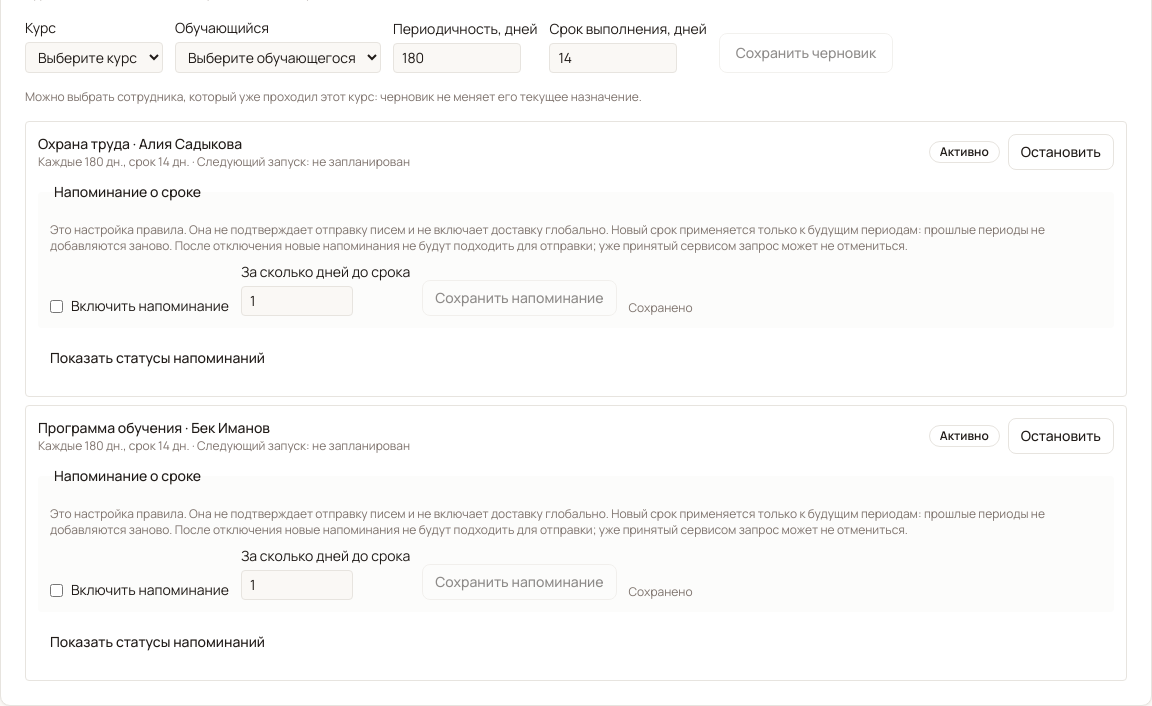
Test: recurring reminder settings › keeps concurrent rule history responses with their own cards
The width and height of the screenshot is (1152, 706).
(page scrolled)
expect the text "Программа обучения · Бек Иманов" is shown: met, box [38,418,270,437]
Click the button "Показать статусы напоминаний" below "Охрана труда" at (158, 358), box [38,340,277,376]
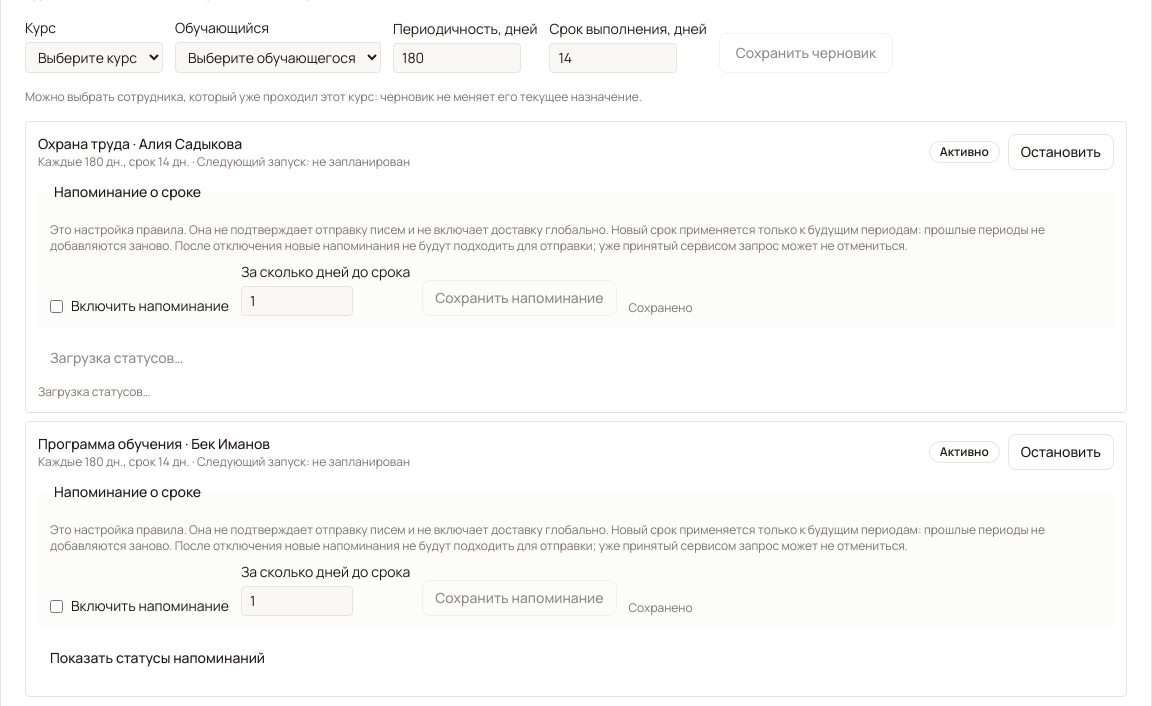
Click the button "Показать статусы напоминаний" at (158, 658), box [38,640,277,676]
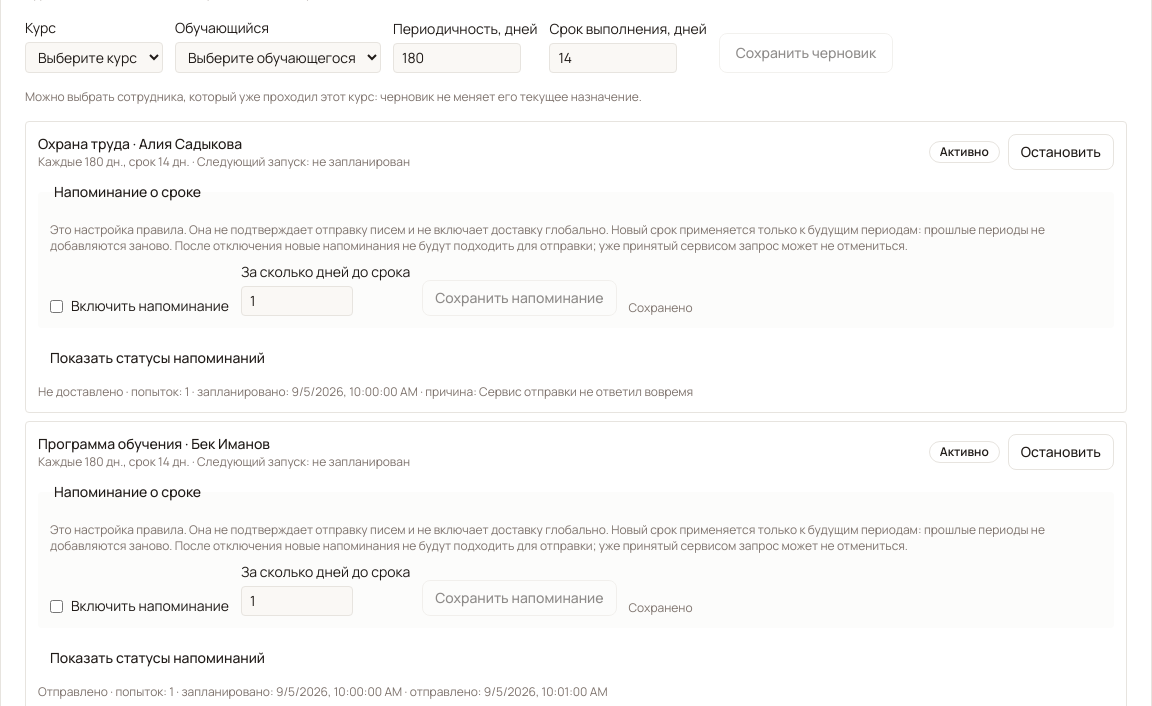
expect the list item "Отправлено" is shown: met, box [38,683,402,700]
expect the list item "Не доставлено" is shown: met, box [38,383,418,400]
